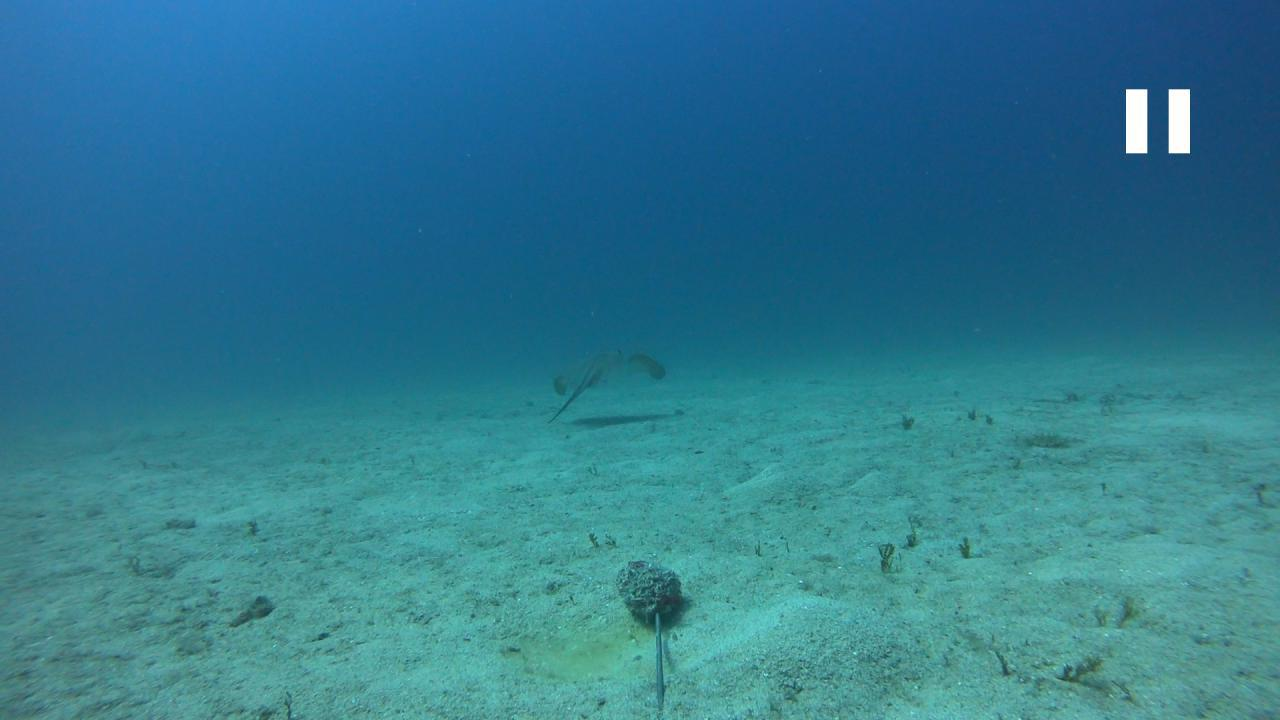dasyatis: (545, 345, 666, 423)
